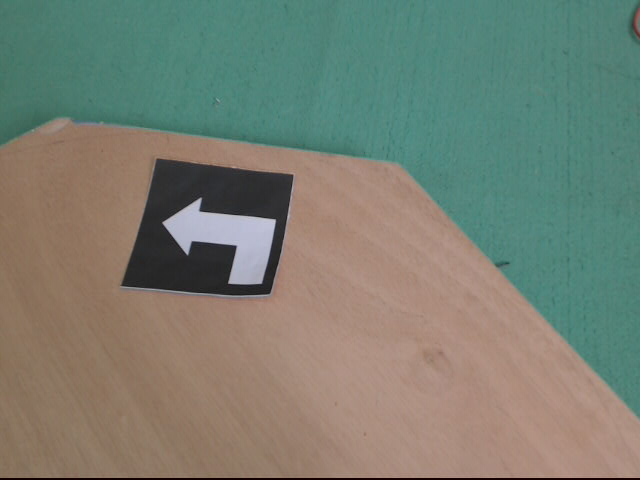left: (118, 155, 295, 297)
